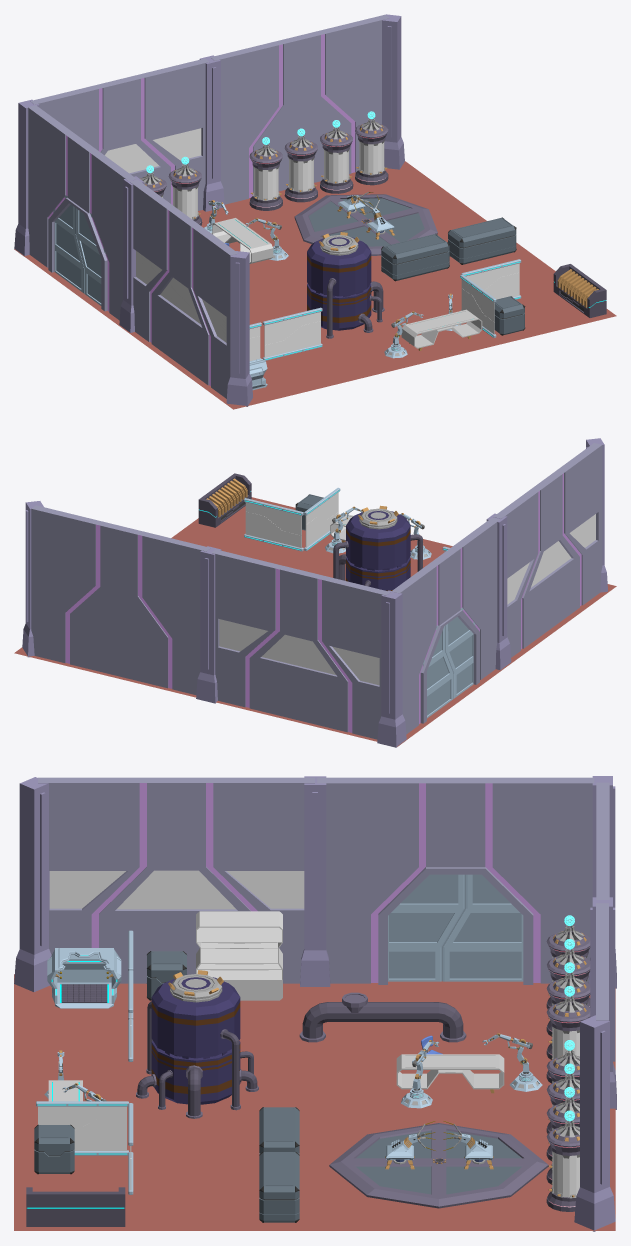
The model's file is level01.fbx.
3 views of the same model, one above another, from view 1: azimuth 30°, elevation 25°; view 2: azimuth 150°, elevation 25°; view 3: azimuth 270°, elevation 25° (orthographic). The views are drawn at different scales.
Visible parts, largest first — view 1: Plane.006, wall.005, wallwindow.005, wallwindow.007, walldor.002, Icosphere.002, Cylinder.002, Plane.004, door.002, Cube.032, Cube.033, Cube.008 (+12 smaller); view 2: wall.005, wallwindow.007, wallwindow.005, walldor.002, Plane.006, Cylinder.002, Cube.009, door.002, Cube.008, Cube.045, Cube.016, Cube.004 (+4 smaller); view 3: Plane.006, wallwindow.005, walldor.002, Plane.004, door.002, Cylinder.002, Cube.047, Cube.033, Cube.032, Cube.004, Icosphere.002, Icosphere.003 (+16 smaller).
Part boxes in pixels (x1=…): Plane.006: x1=14, y1=161, x2=616, y2=409; wall.005: x1=210, y1=14, x2=389, y2=204; wallwindow.005: x1=130, y1=179, x2=238, y2=398; wallwindow.007: x1=30, y1=58, x2=209, y2=210; walldor.002: x1=28, y1=105, x2=136, y2=320; Icosphere.002: x1=249, y1=111, x2=388, y2=210; Cylinder.002: x1=307, y1=232, x2=384, y2=338; Plane.004: x1=294, y1=192, x2=437, y2=255; door.002: x1=53, y1=195, x2=105, y2=305; Cube.032: x1=226, y1=251, x2=252, y2=406; Cube.033: x1=382, y1=14, x2=404, y2=169; Cube.008: x1=199, y1=55, x2=224, y2=211; wall.005: x1=31, y1=505, x2=210, y2=694; wallwindow.007: x1=211, y1=549, x2=390, y2=739; wallwindow.005: x1=493, y1=443, x2=602, y2=657; walldor.002: x1=391, y1=517, x2=500, y2=734; Plane.006: x1=14, y1=497, x2=616, y2=746; Cylinder.002: x1=333, y1=505, x2=422, y2=590; Cube.009: x1=377, y1=590, x2=406, y2=747; door.002: x1=423, y1=607, x2=475, y2=718; Cube.008: x1=196, y1=546, x2=221, y2=703; Cube.045: x1=244, y1=498, x2=303, y2=551; Cube.016: x1=198, y1=473, x2=251, y2=527; Cube.004: x1=486, y1=513, x2=511, y2=670; Plane.006: x1=14, y1=974, x2=615, y2=1230; wallwindow.005: x1=38, y1=777, x2=314, y2=983; walldor.002: x1=317, y1=777, x2=594, y2=984; Plane.004: x1=329, y1=1121, x2=548, y2=1208; door.002: x1=388, y1=874, x2=523, y2=981; Cylinder.002: x1=136, y1=970, x2=258, y2=1118; Cube.047: x1=196, y1=911, x2=282, y2=1000; Cube.033: x1=574, y1=1015, x2=615, y2=1231; Cube.032: x1=14, y1=777, x2=51, y2=991; Cube.004: x1=300, y1=776, x2=330, y2=986; Icosphere.002: x1=546, y1=1040, x2=579, y2=1211; Icosphere.003: x1=546, y1=915, x2=590, y2=1083.
Size of what is drawn, in the model's own units: 5959 by 2200 by 5914.
